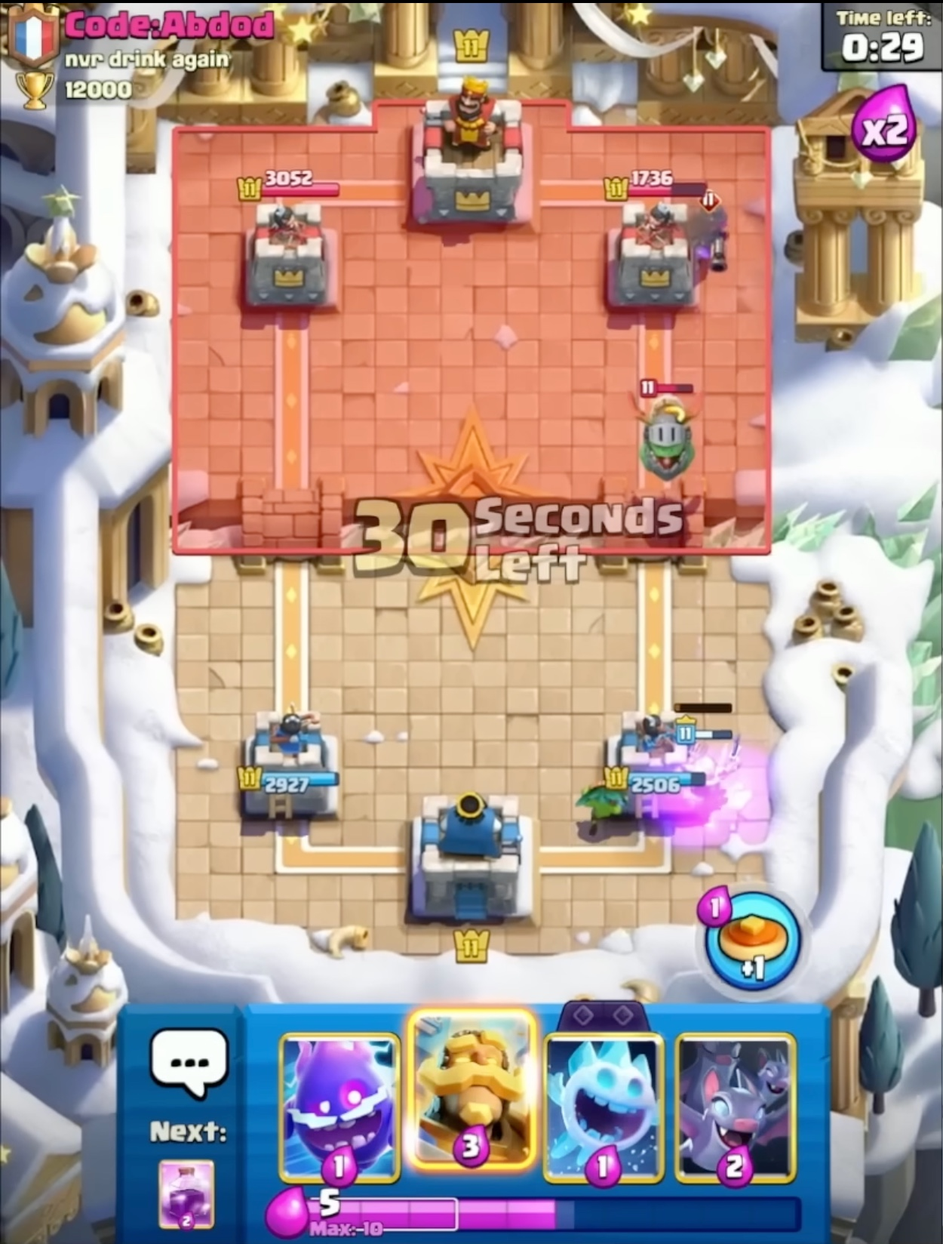evo-musketeer: (687, 180, 740, 286)
inferno-dragon: (626, 370, 705, 488)
